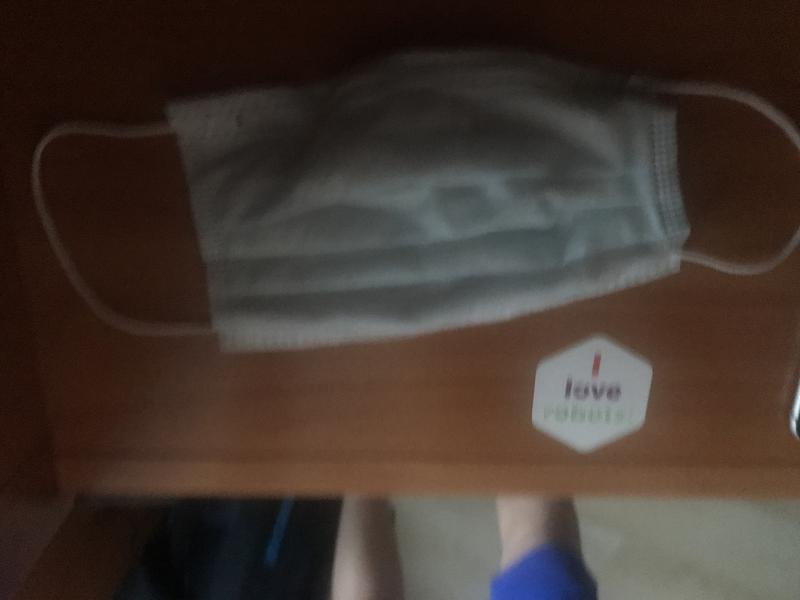medical_mask: (32, 48, 800, 337)
